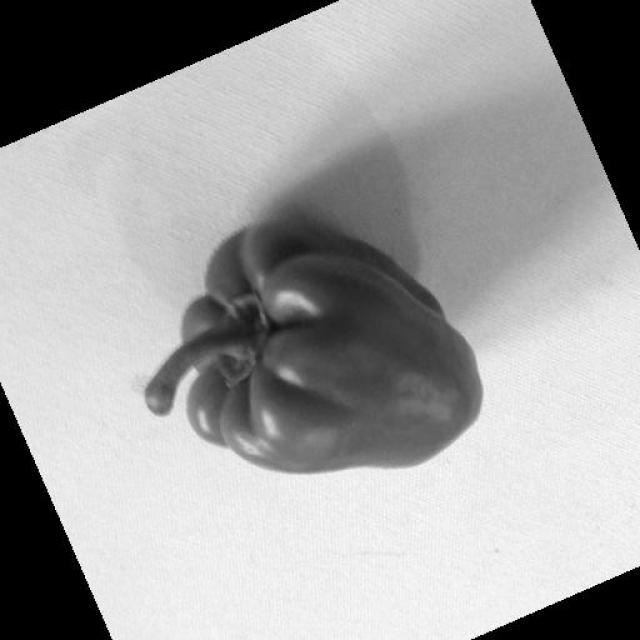Fresh_Capsicum: (179, 195, 505, 484)
